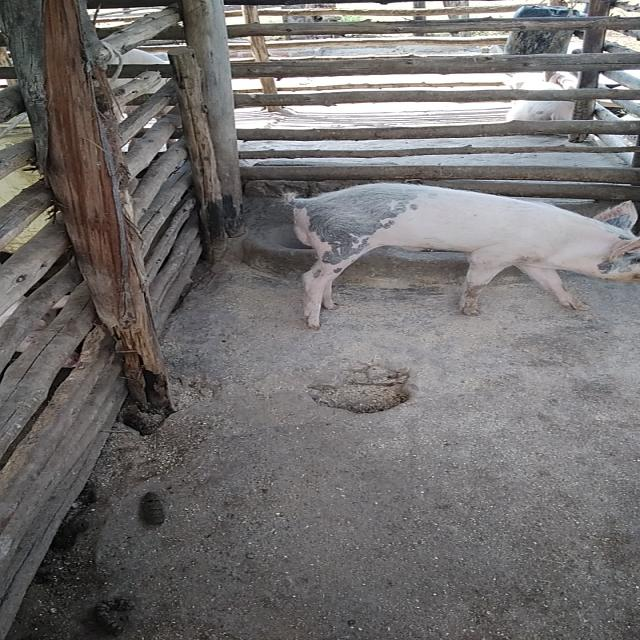pig: (236, 148, 640, 346)
